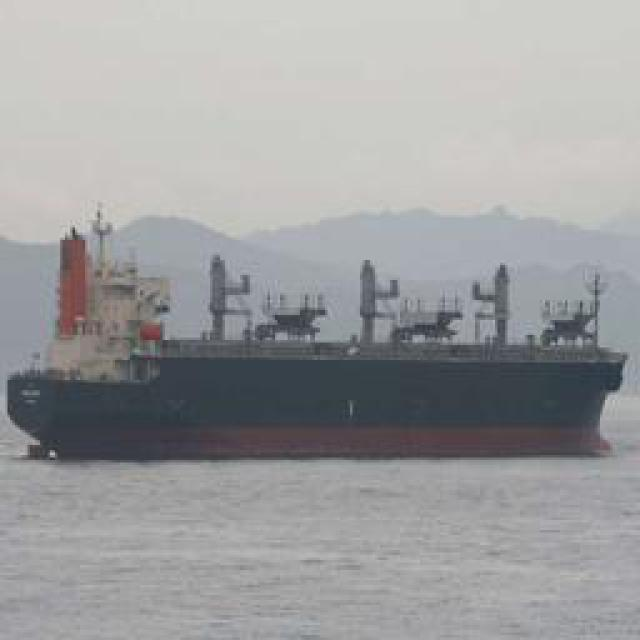Ship: (15, 214, 618, 449)
